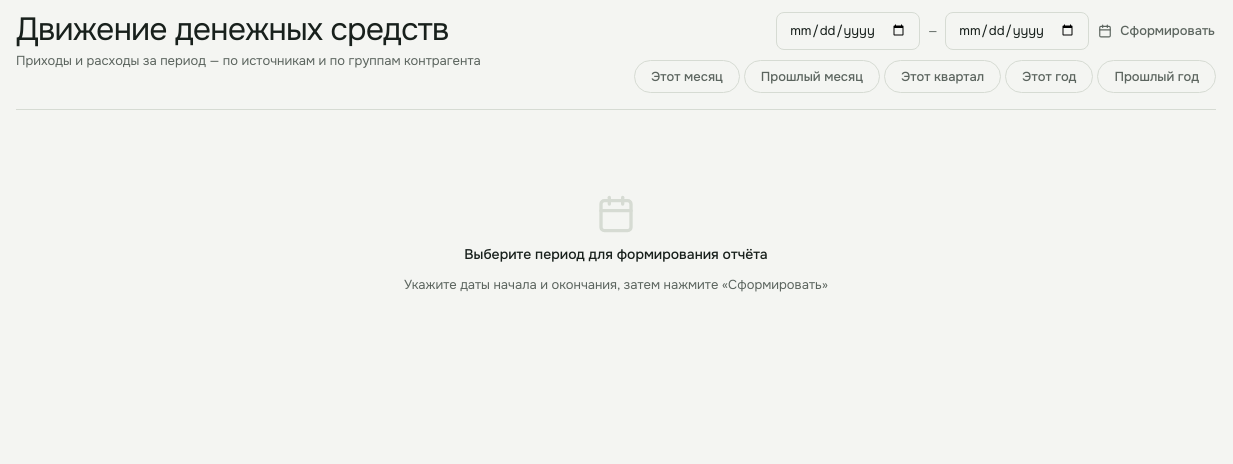
Test: CashFlowReport › запрашивает отчёт за выбранный период и показывает итоги
Type "2026-01-01" into the date field named "Дата начала" at (848, 31), box [776,12,920,50]
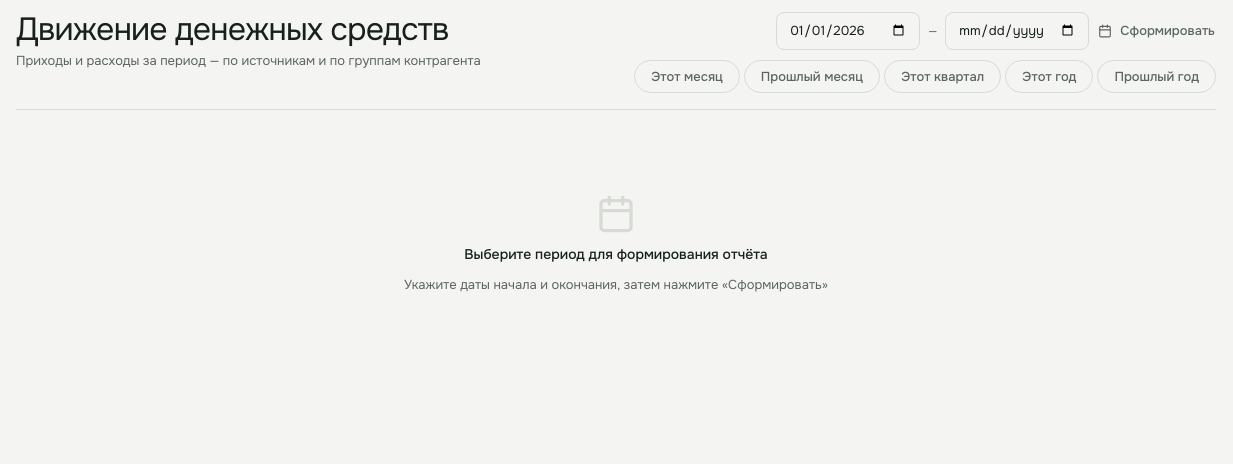
Type "2026-06-30" into the date field named "Дата окончания" at (1017, 31), box [945,12,1089,50]
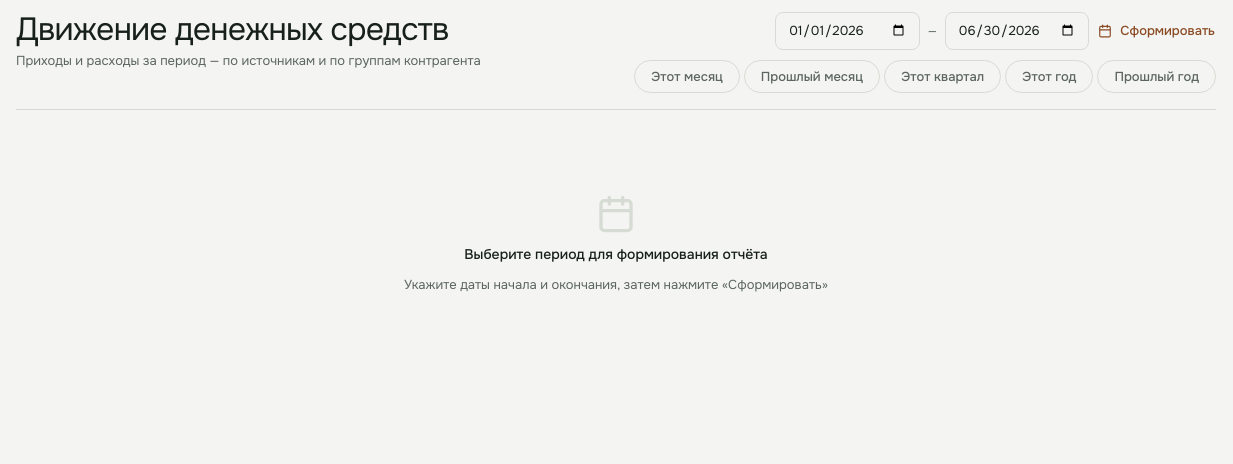
Click the button "Сформировать" at (1157, 31), box [1097,20,1216,42]
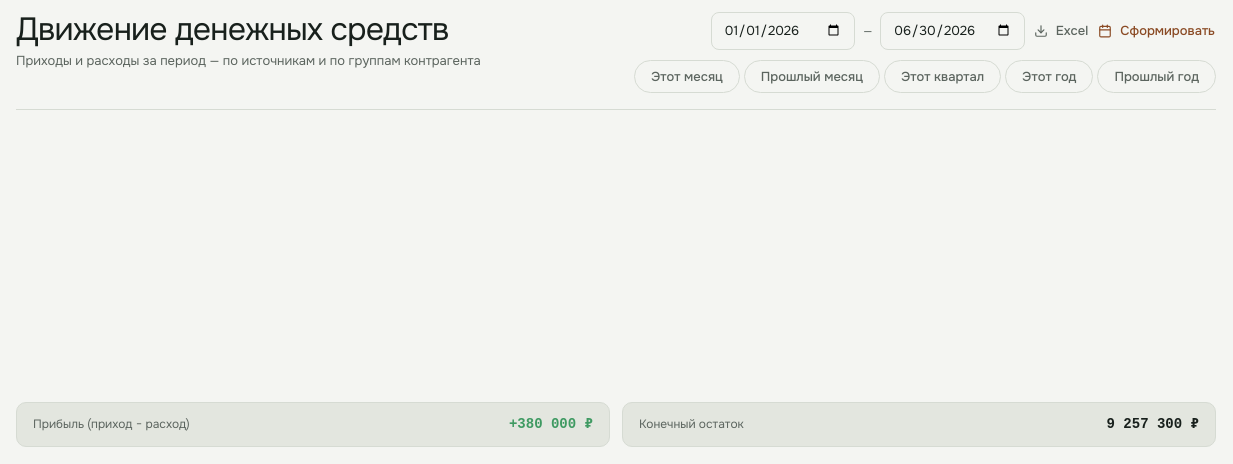
expect the element with class "cf-foot" shows "+380 000 ₽": met, box [16,402,1216,447]
expect the element with class "cf-foot" shows "9 257 300 ₽": met, box [16,402,1216,447]
